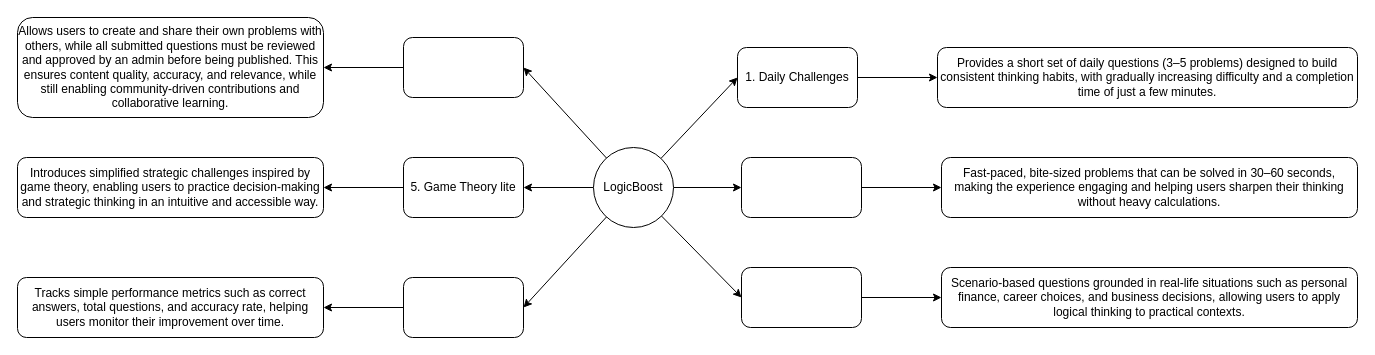
Some shapes in this 1375 by 355 pixel diagram are drawn without their labels. Here are the shapes that lost their labels. From the top down, the centre of each, then its label:
At (463,67): "6. Community Sharing (Moderated)".
At (801,187): "2. Quick Mini Games".
At (463,307): "4. Basic Progress Tracking".
At (801,297): "3. Real-world Problems".
